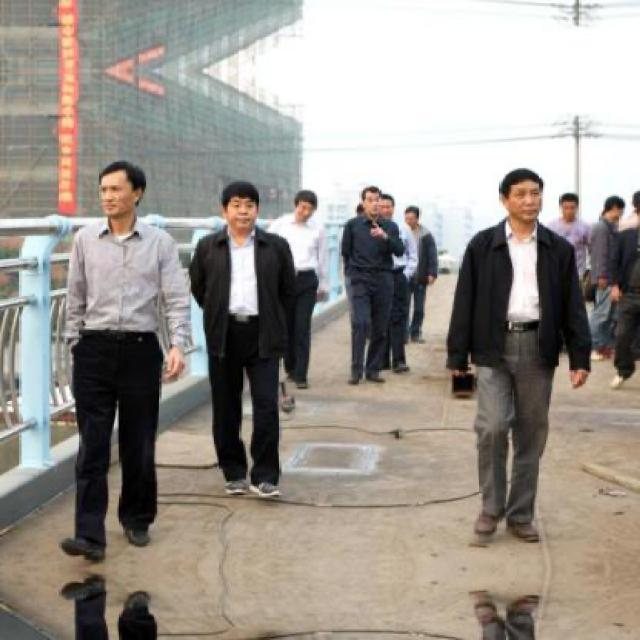sin casco: (484, 157, 555, 239), (86, 153, 151, 208), (211, 180, 268, 232), (544, 190, 618, 225), (356, 176, 401, 223), (290, 188, 322, 214)
